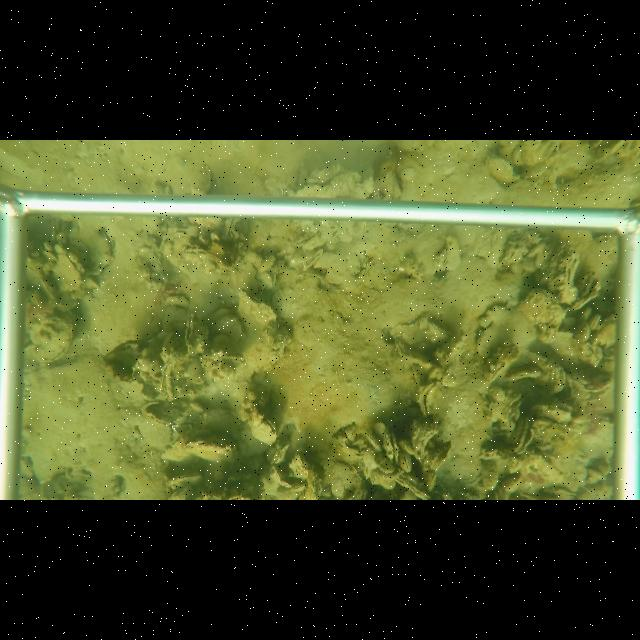Oyster-Closed: (235, 287, 282, 339), (34, 311, 75, 362), (51, 252, 85, 293), (185, 440, 235, 464), (187, 163, 214, 194), (395, 478, 431, 499), (164, 468, 201, 488), (581, 374, 614, 393), (427, 318, 452, 340), (39, 278, 60, 302), (394, 337, 412, 363), (271, 443, 290, 464), (575, 320, 592, 342), (365, 431, 382, 452), (225, 218, 240, 240), (400, 450, 413, 474), (30, 288, 45, 307), (590, 312, 602, 329), (579, 307, 592, 322), (291, 482, 306, 492)
Oyster-Open: (181, 313, 211, 356), (414, 382, 443, 415), (247, 420, 278, 446), (512, 415, 530, 454), (382, 430, 399, 463)
